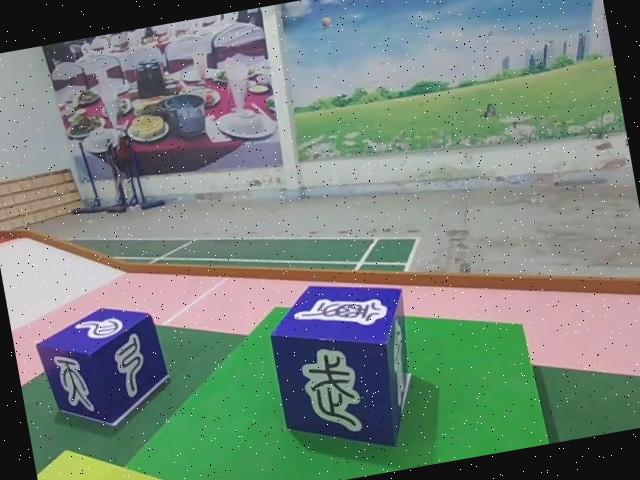R2 Fake Blue: (263, 266, 431, 465), (35, 299, 179, 439)
